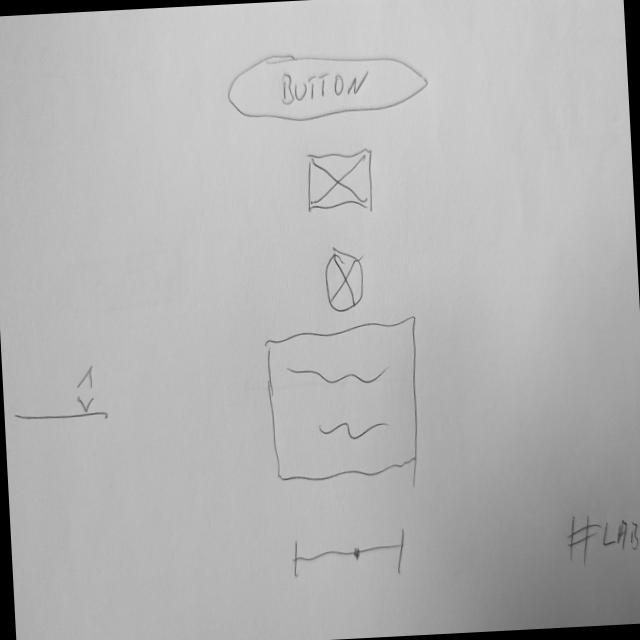button: (225, 44, 433, 125)
image: (302, 145, 376, 215), (322, 247, 367, 318)
label: (562, 507, 640, 569)
number-input: (12, 361, 111, 426)
slider: (287, 526, 411, 582)
textarea: (263, 313, 426, 488)
